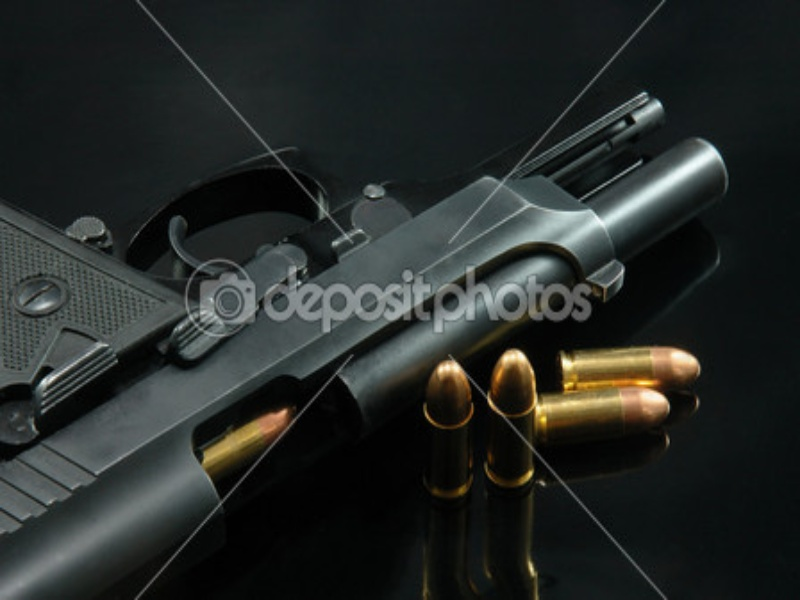gun: (13, 42, 729, 588)
